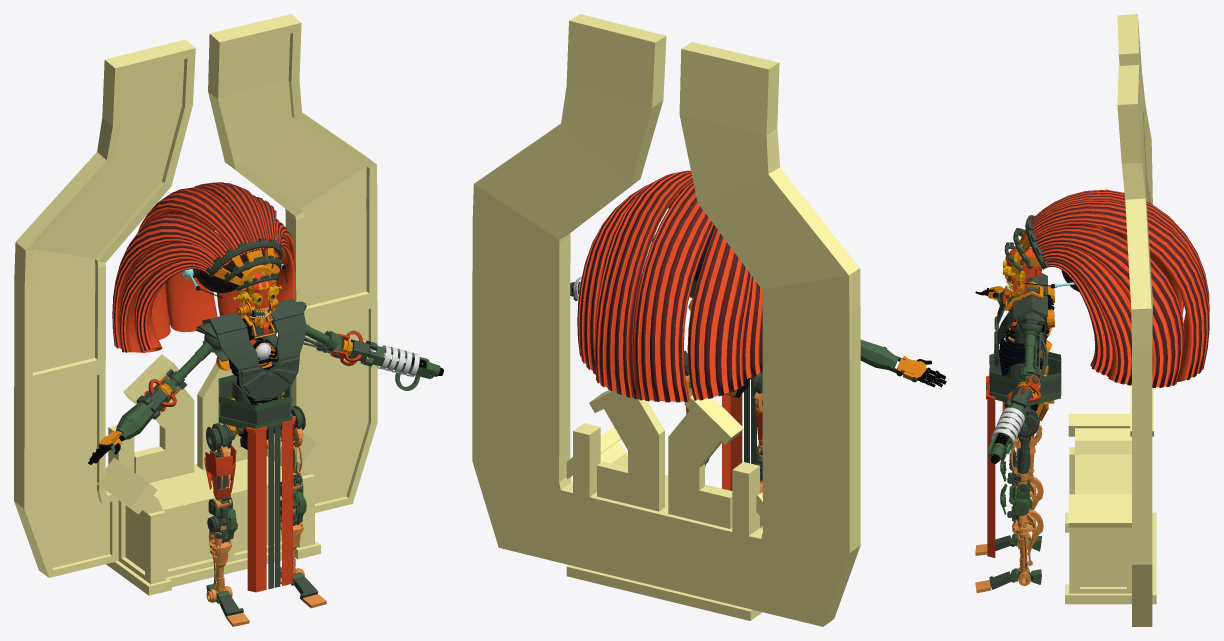
The model's file is Motechzuma.fbx.
3 views of the same model, side by side, from view 1: azimuth 30°, elevation 25°; view 2: azimuth 150°, elevation 25°; view 3: azimuth 270°, elevation 25° (orthographic). The views are drawn at different scales.
Parts seen in each view (by area): view 1: TPose1_001, tpose1_copy2.002, CINTO_, tpose1_copy2.005, tpose2_1, tpose1_copy2.006, tpose1_copy2.001, tpose1_copy2, tpose1_copy2.003, tpose2, Sphere; view 2: TPose1_001, tpose1_copy2.002, CINTO_, tpose1_copy2.005, tpose2_1; view 3: TPose1_001, tpose1_copy2.002, tpose2_1, tpose1_copy2.005, CINTO_, tpose1_copy2, tpose1_copy2.006, tpose1_copy2.001, tpose1_copy2.003.
Part boxes in pixels (left/top/right/bottom): TPose1_001: left=14, top=14, right=377, bottom=595; tpose1_copy2.002: left=112, top=182, right=295, bottom=352; CINTO_: left=218, top=375, right=295, bottom=592; tpose1_copy2.005: left=88, top=324, right=443, bottom=464; tpose2_1: left=206, top=405, right=326, bottom=626; tpose1_copy2.006: left=196, top=298, right=306, bottom=400; tpose1_copy2.001: left=214, top=247, right=281, bottom=334; tpose1_copy2: left=216, top=306, right=284, bottom=449; tpose1_copy2.003: left=206, top=238, right=282, bottom=290; tpose2: left=204, top=445, right=236, bottom=498; Sphere: left=182, top=235, right=287, bottom=298; TPose1_001: left=472, top=14, right=860, bottom=626; tpose1_copy2.002: left=577, top=170, right=762, bottom=402; CINTO_: left=722, top=378, right=761, bottom=490; tpose1_copy2.005: left=570, top=274, right=946, bottom=387; tpose2_1: left=684, top=350, right=762, bottom=493; TPose1_001: left=1065, top=14, right=1156, bottom=626; tpose1_copy2.002: left=1030, top=189, right=1209, bottom=387; tpose2_1: left=975, top=409, right=1043, bottom=592; tpose1_copy2.005: left=975, top=286, right=1048, bottom=463; CINTO_: left=986, top=352, right=1061, bottom=557; tpose1_copy2: left=999, top=281, right=1054, bottom=421; tpose1_copy2.006: left=994, top=273, right=1047, bottom=368; tpose1_copy2.001: left=1002, top=229, right=1046, bottom=303; tpose1_copy2.003: left=1004, top=215, right=1049, bottom=271.
Bounding box in the file's own units: 441 × 607 × 252.
